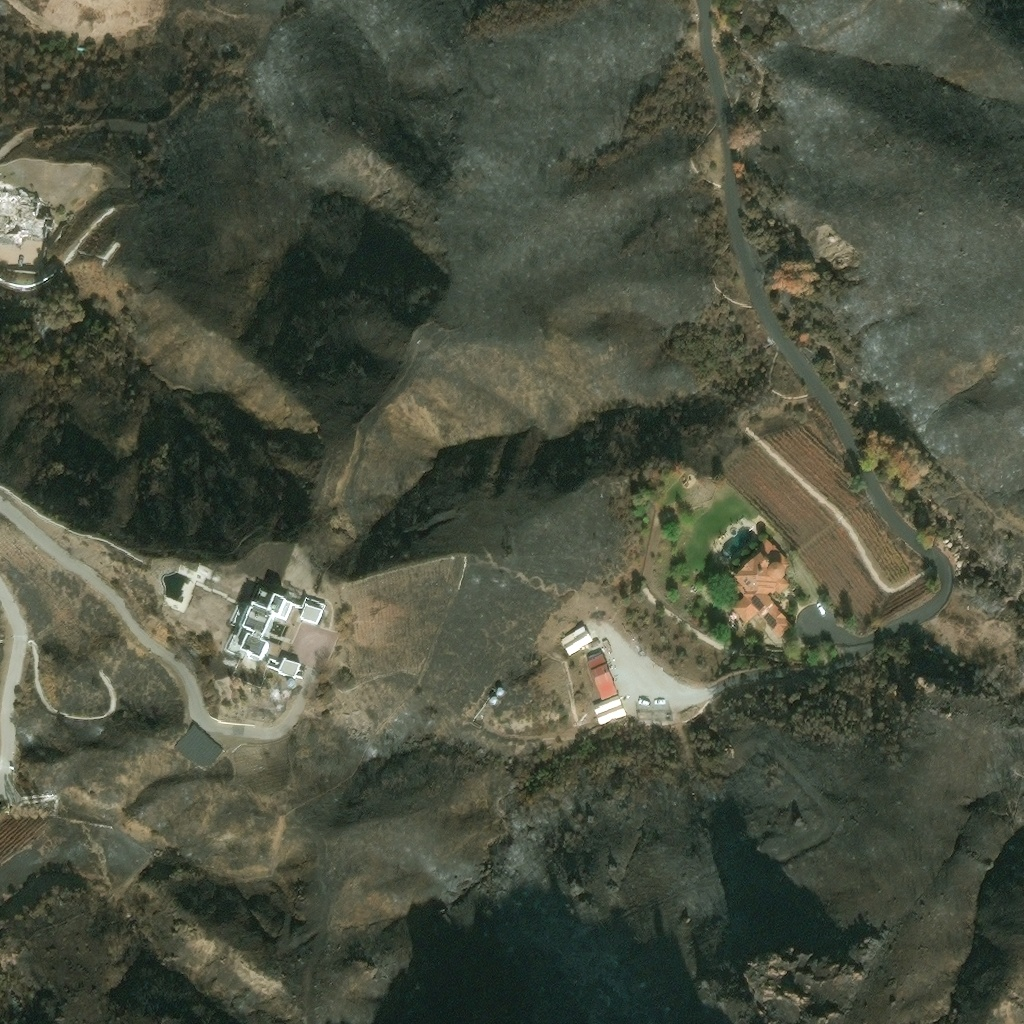0 no-damage: (733, 539, 795, 638), (240, 592, 326, 662), (176, 725, 223, 773), (590, 664, 619, 701), (561, 625, 594, 657), (594, 696, 628, 725), (278, 657, 304, 680), (587, 652, 608, 671), (488, 689, 505, 707), (286, 679, 296, 688)
3 destroyed: (0, 207, 55, 239), (0, 181, 45, 214)
